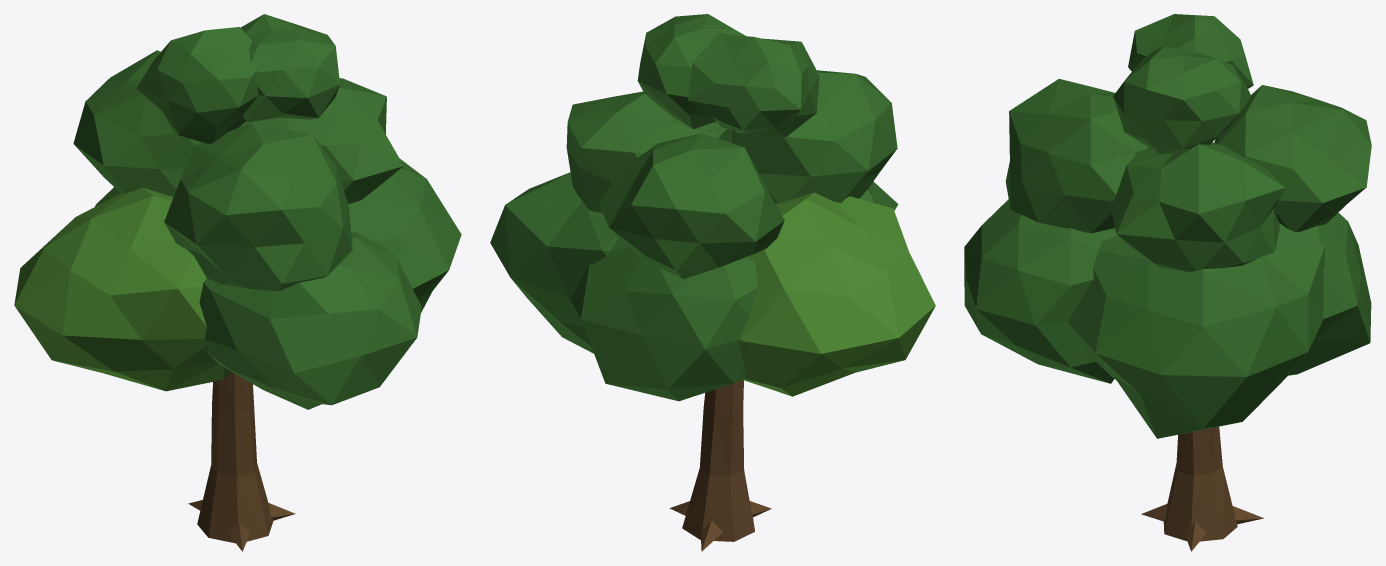
Rendered from HS_LP_Tree_Alder_01.fbx.
3 renders of one model, left to right at view 1: azimuth 30°, elevation 25°; view 2: azimuth 150°, elevation 25°; view 3: azimuth 270°, elevation 25°, orthographic. The views are drawn at different scales.
Visible parts, largest first — view 1: HS_LP_Tree_Alder_01; view 2: HS_LP_Tree_Alder_01; view 3: HS_LP_Tree_Alder_01.
Boxes of the visible parts, left/top/right/bottom form: HS_LP_Tree_Alder_01: left=14, top=14, right=461, bottom=551; HS_LP_Tree_Alder_01: left=490, top=14, right=935, bottom=551; HS_LP_Tree_Alder_01: left=964, top=14, right=1371, bottom=551.
Size of the model in its own units: 440 by 518 by 384.
